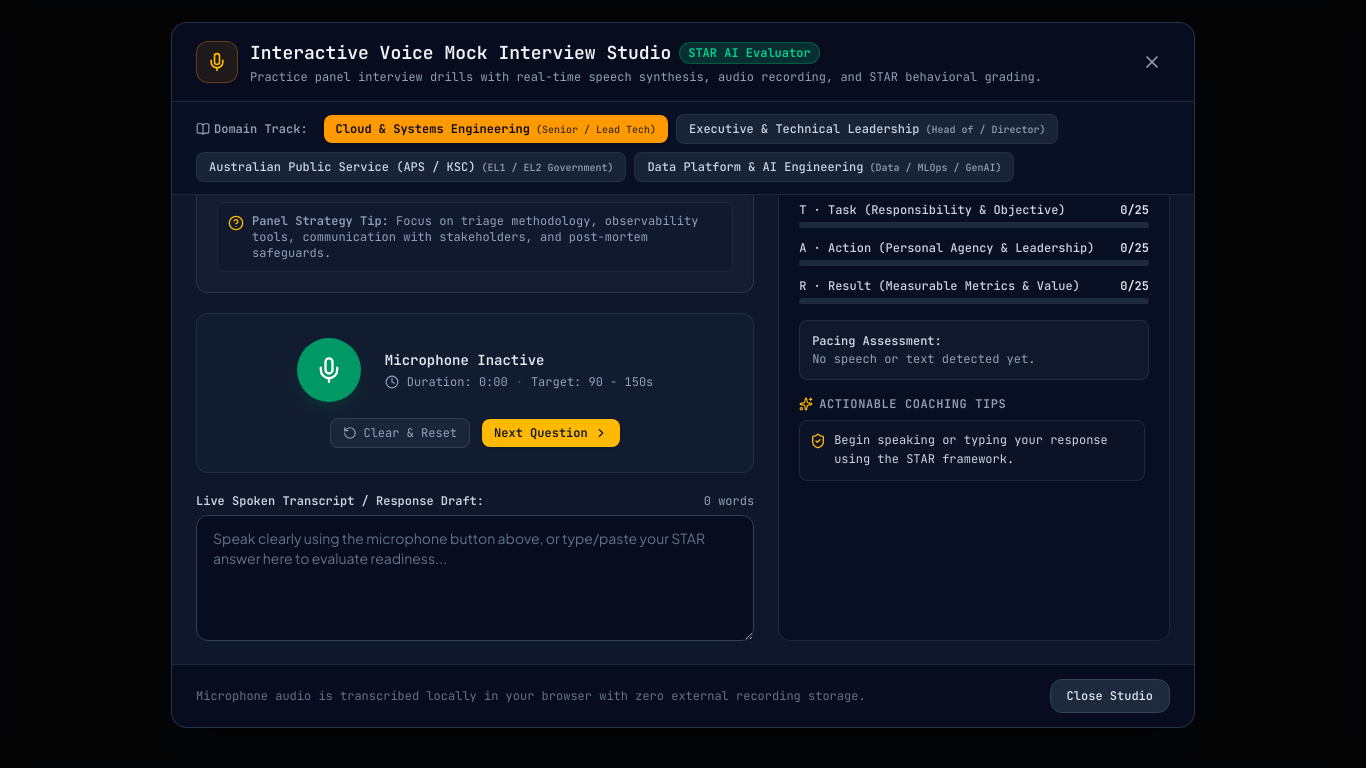
Test: VoiceMockInterviewModal Component › updates evaluation when typing into transcript input
(page scrolled)
Replace the text in the text box with placeholder "Speak clearly using the microphone button above" with "When I was at my previous enterprise organization facing a legacy infrastructure challenge, our distributed systems experienced severe latency spikes during peak load. My role was to lead the platform" at (475, 578), box [196,515,754,641]
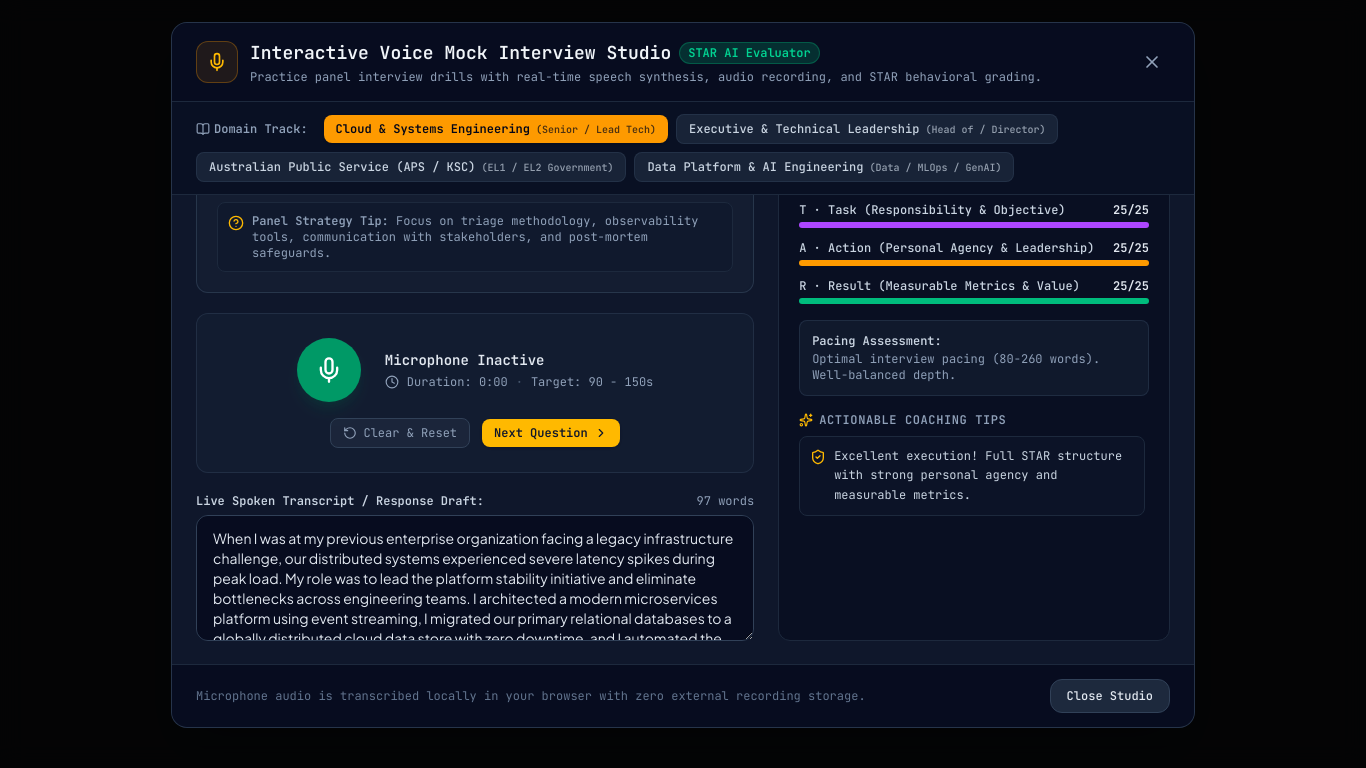
Now the text "Optimal interview pacing" is shown, box [812,351,1100,383]
